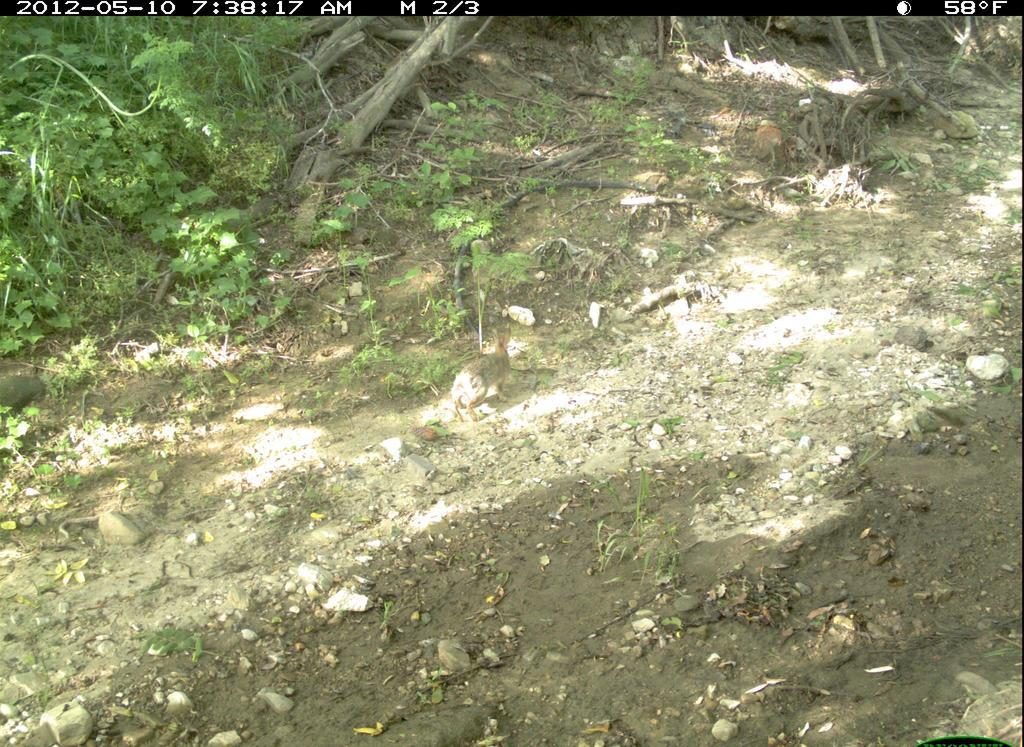rabbit: (445, 326, 527, 425)
